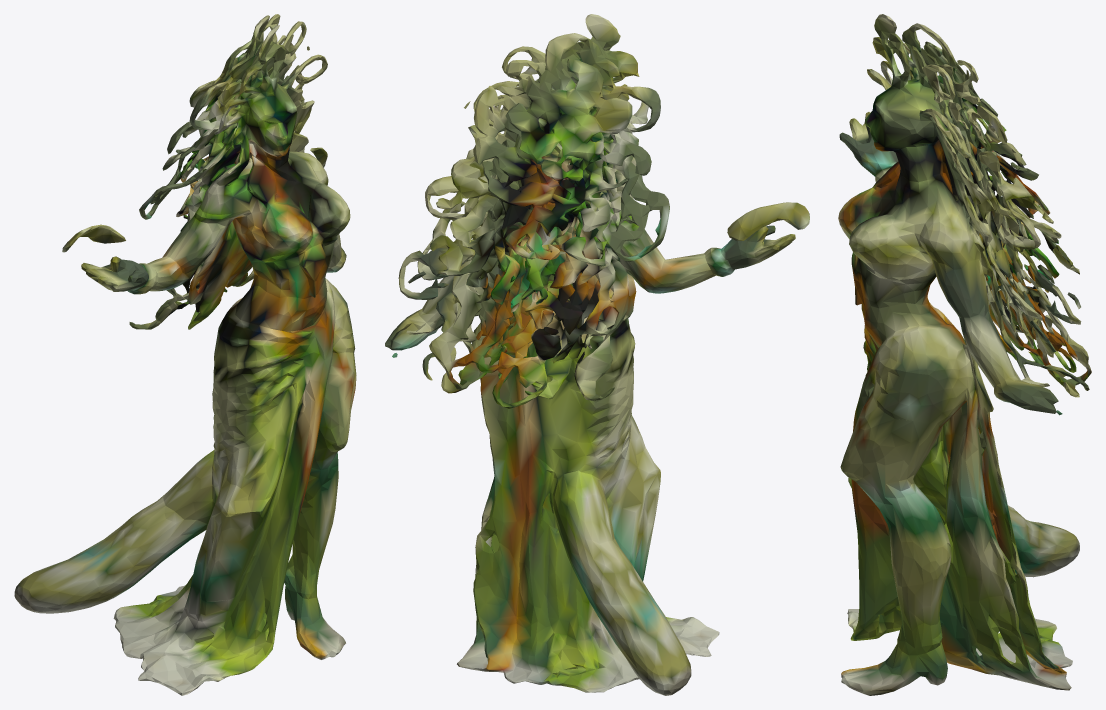
File: jellyfish.glb
3 renders of one model, left to right at view 1: azimuth 30°, elevation 25°; view 2: azimuth 150°, elevation 25°; view 3: azimuth 270°, elevation 25°, orthographic. The views are drawn at different scales.
Visible parts, largest first — view 1: world; view 2: world; view 3: world.
Part boxes in pixels (bbox=[...]): world: bbox=[14, 14, 356, 695]; world: bbox=[385, 14, 809, 695]; world: bbox=[838, 14, 1091, 695].
Size of the model in its own units: 0.5874 by 1 by 0.351.
